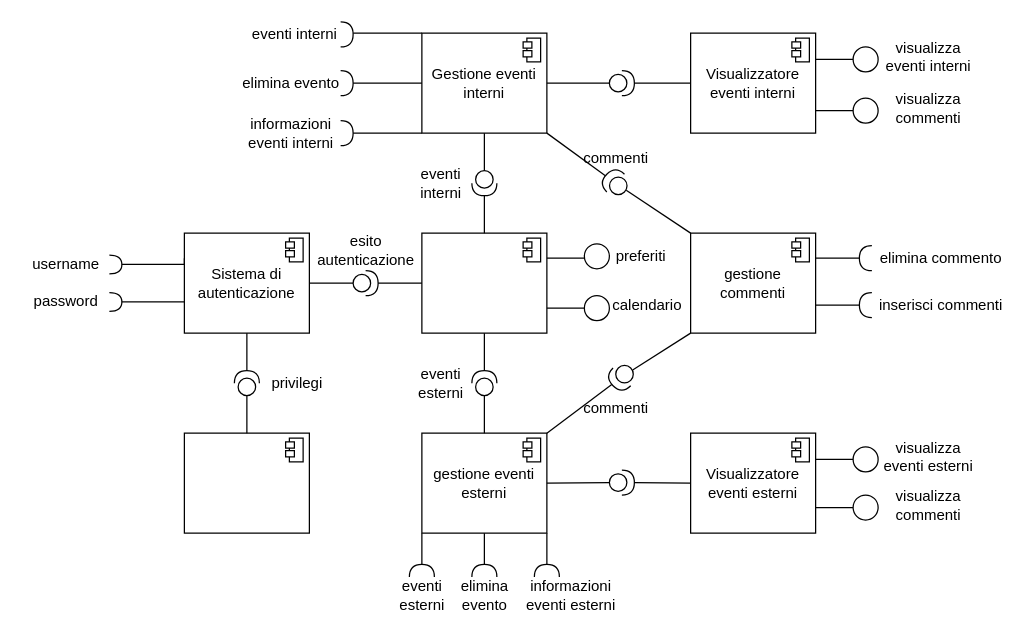
Some shapes in this 1030 by 636 pixel diagram are drawn without their labels. Here are the shapes that lost their labels. From the top down, the centre of each, then its label:
At (x=484, y=282): "Homepage".
At (x=246, y=482): "Gestione privilegi".
